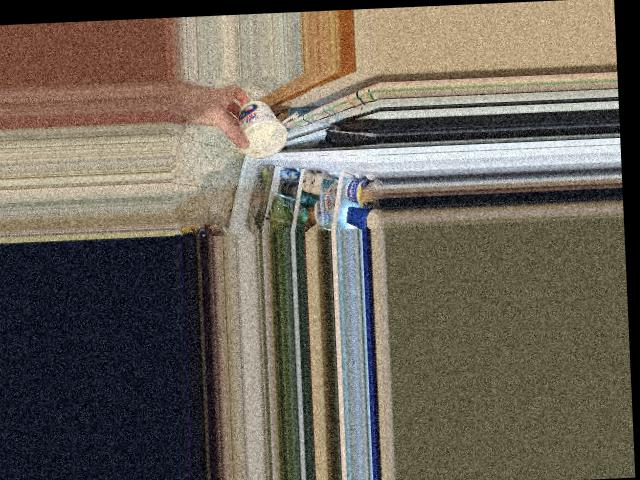cotage: (228, 101, 286, 160)
